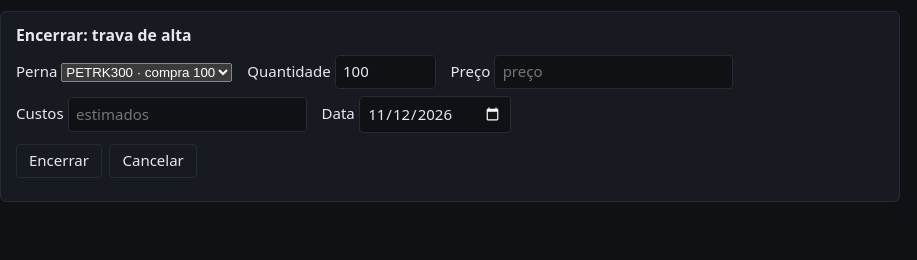
Test: sem preço de zerar o encerramento pede o preço
Step 1. Click the button "Encerrar" → (59, 161), box [16,144,102,178]
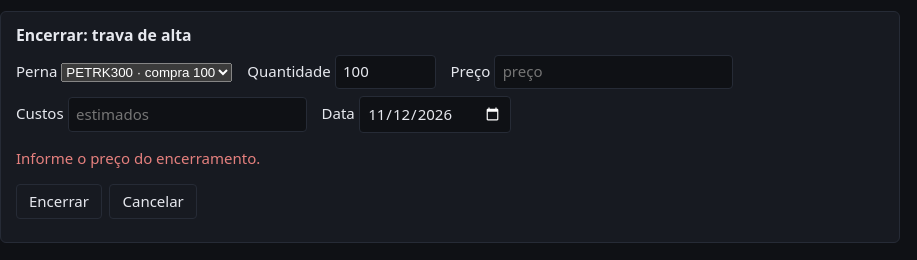
Result: the message reads "Informe o preço do encerramento." at [16,148,260,168]
